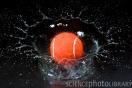tennis ball: (48, 31, 86, 66)
